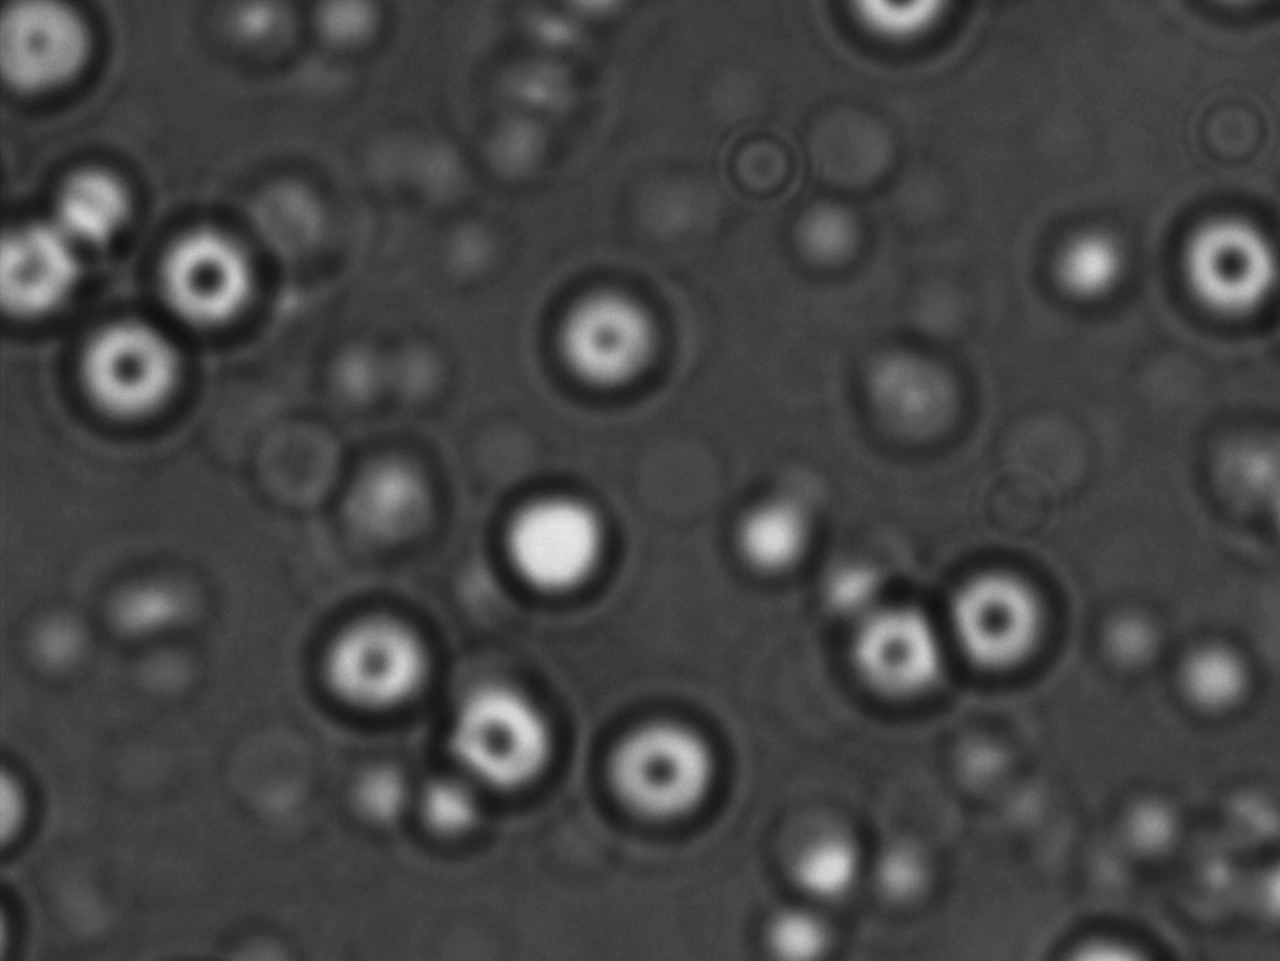depth:32: (533, 262, 692, 407), (585, 693, 732, 845), (301, 589, 448, 736), (824, 574, 967, 719), (941, 542, 1075, 683), (434, 671, 565, 804), (138, 216, 266, 347), (66, 309, 196, 437), (1173, 201, 1280, 330)
